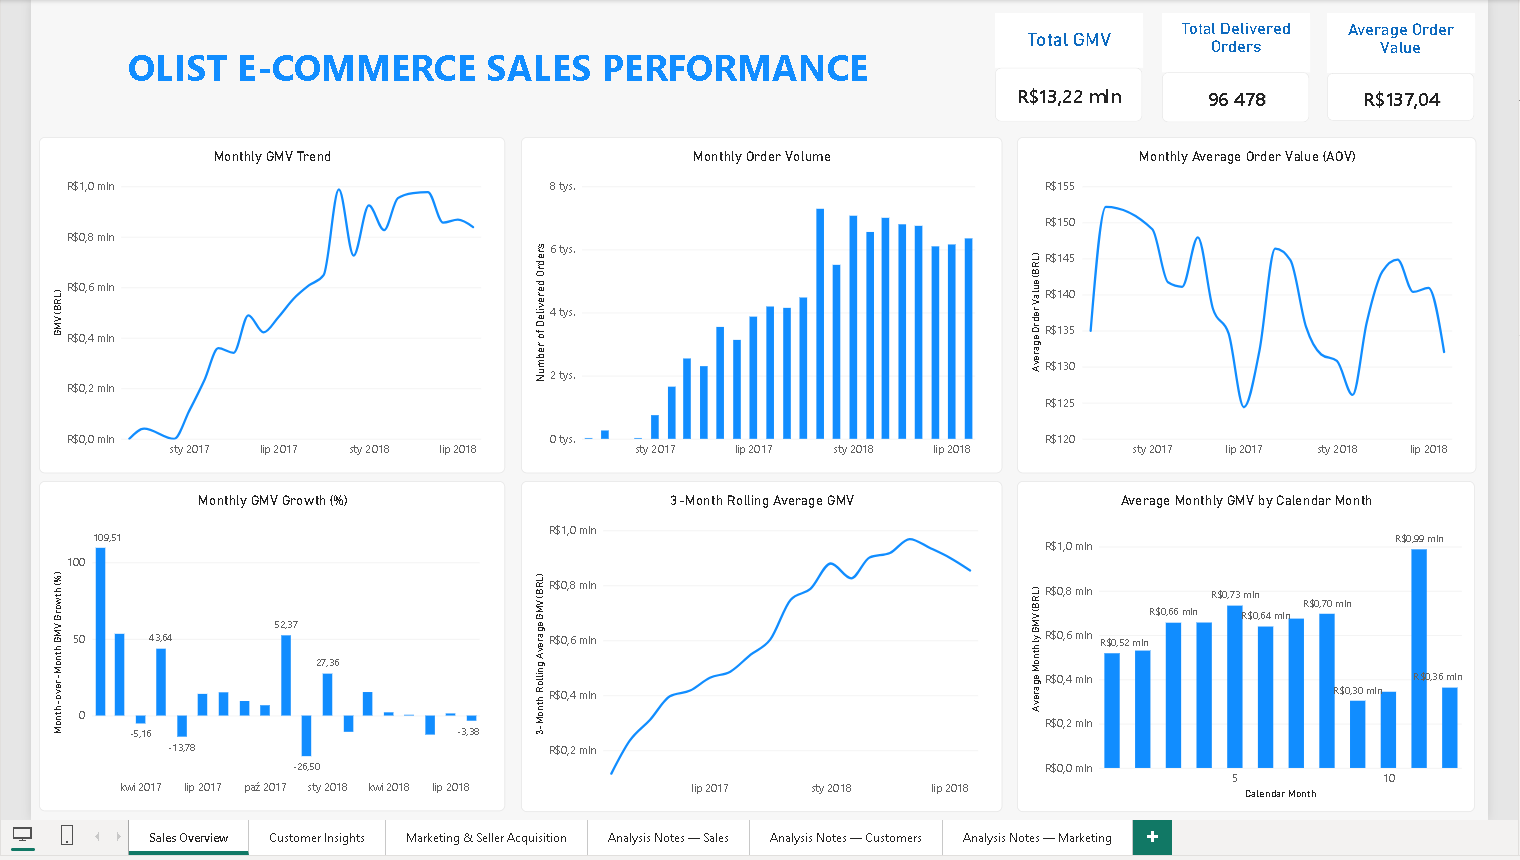

What the dashboard file says about the page in this screenshot:
{"tool":"powerbi","page":{"name":"Sales Overview","canvas":[1920,1080],"ordinal":0},"visuals":[{"type":"lineChart","title":"Monthly GMV Trend","fields":{"Category":["Monthly Revenue.month"],"Y":["Sum(Monthly Revenue.monthly_gmv)"]},"box":[10.5,180.4,613.8,442.5],"z":0},{"type":"columnChart","title":"Monthly Order Volume","fields":{"Category":["Monthly Revenue.month"],"Y":["Sum(Monthly Revenue.monthly_orders)"]},"box":[645.4,180.4,633.5,442.5],"z":1000},{"type":"lineChart","title":"Monthly Average Order Value (AOV)","fields":{"Category":["Monthly Revenue.month"],"Y":["Sum(Monthly Revenue.monthly_aov)"]},"box":[1298.6,180.4,604.5,442.5],"z":2000},{"type":"columnChart","title":"Monthly GMV Growth (%)","fields":{"Category":["Monthly Trends.calendar"],"Y":["Sum(Monthly Trends.month_over_month_growth)"]},"box":[10.5,633.5,613.8,434.6],"z":3000},{"type":"lineChart","title":"3-Month Rolling Average GMV","fields":{"Category":["Monthly Trends.calendar"],"Y":["Sum(Monthly Trends.three_month_rolling_average)"]},"box":[645.4,633.5,633.5,436],"z":4000},{"type":"columnChart","title":"Average Monthly GMV by Calendar Month","fields":{"Category":["Monthly Seasonality.month_number"],"Y":["Sum(Monthly Seasonality.avg_monthly_gmv)"]},"box":[1298.6,633.5,603.2,436],"z":5000},{"type":"textbox","box":[127.8,55.3,1033.9,85.6],"z":6000},{"type":"cardVisual","title":"Total GMV                                ","fields":{"Data":["Sum(Monthly Revenue.monthly_gmv)"]},"box":[1269.7,17.1,194.9,146.2],"z":7000},{"type":"cardVisual","title":"Total Delivered Orders","fields":{"Data":["Monthly Revenue.Total_Delivered_Orders_Tekst"]},"box":[1489.6,17.1,194.9,146.2],"z":8000},{"type":"cardVisual","title":"Average Order Value","fields":{"Data":["Monthly Revenue.Overall AOV"]},"box":[1706.9,17.1,194.9,146.2],"z":9000}]}

Visuals, with their boxes on the page's 1920x1080 design canvas (x1, y1, x2, y2). These are canvas units, not pixel positions in the 1520x860 screenshot, which may show the page scaled, cropped or inside an application window:
"Monthly GMV Trend" lineChart: 10/180/624/623
"Monthly Order Volume" columnChart: 645/180/1279/623
"Monthly Average Order Value (AOV)" lineChart: 1299/180/1903/623
"Monthly GMV Growth (%)" columnChart: 10/634/624/1068
"3-Month Rolling Average GMV" lineChart: 645/634/1279/1070
"Average Monthly GMV by Calendar Month" columnChart: 1299/634/1902/1070
textbox: 128/55/1162/141
"Total GMV                                " cardVisual: 1270/17/1465/163
"Total Delivered Orders" cardVisual: 1490/17/1684/163
"Average Order Value" cardVisual: 1707/17/1902/163
